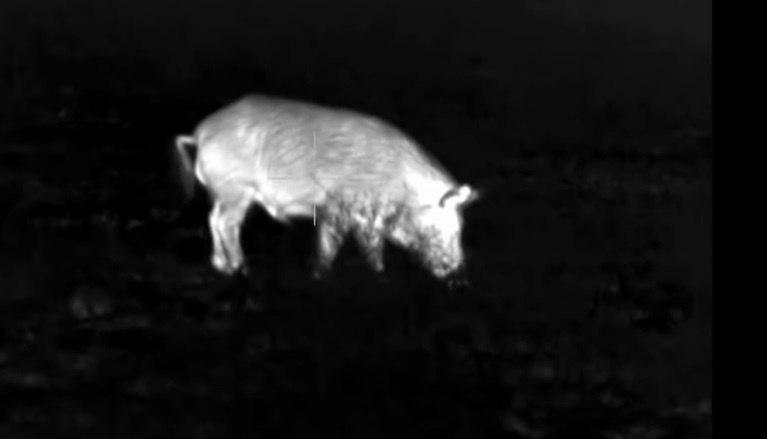wild_boar: (174, 88, 482, 286)
